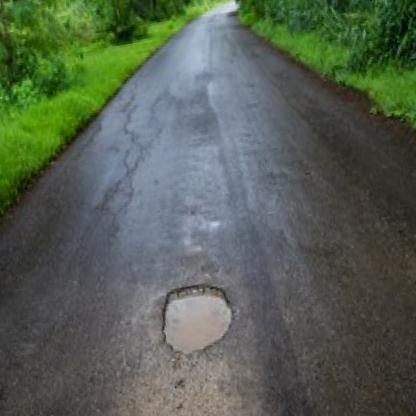pothole: (152, 277, 241, 362)
